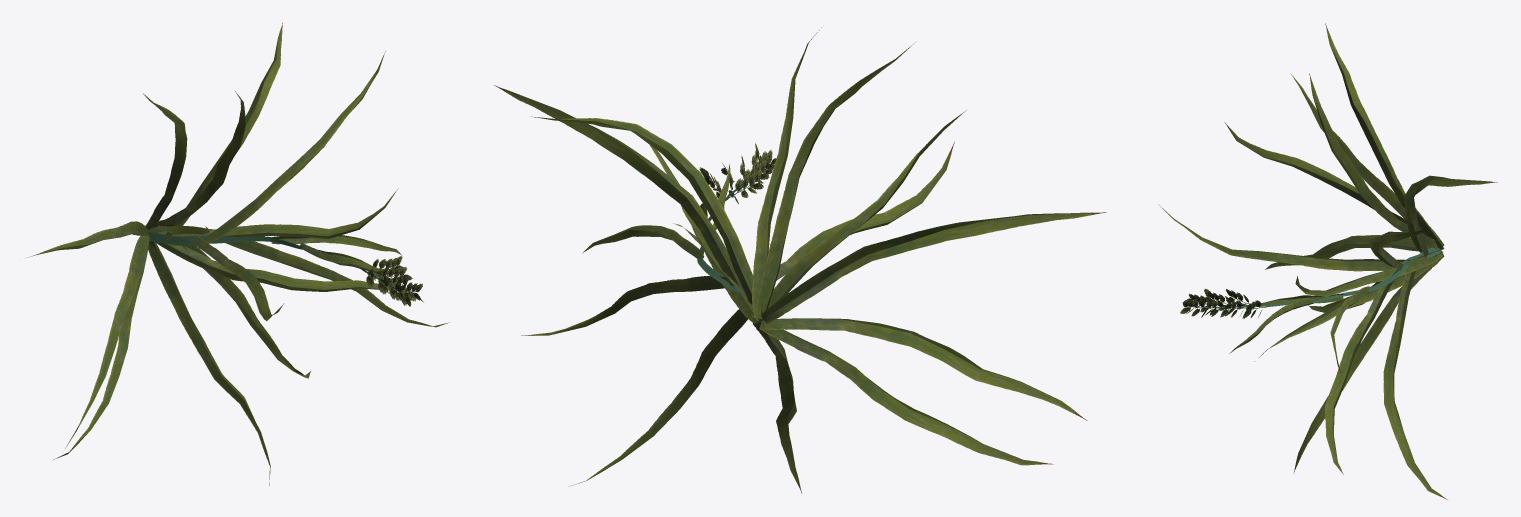
3 renders of one model, left to right at view 1: azimuth 30°, elevation 25°; view 2: azimuth 150°, elevation 25°; view 3: azimuth 270°, elevation 25°, orthographic. The views are drawn at different scales.
Parts seen in each view (by area): view 1: GC14_2; view 2: GC14_2; view 3: GC14_2.
Part boxes in pixels (left/top/right/bottom): GC14_2: left=28, top=22, right=449, bottom=485; GC14_2: left=494, top=27, right=1106, bottom=493; GC14_2: left=1158, top=23, right=1497, bottom=499.
Size of the model in its own units: 0.8516 by 0.736 by 0.5753.
Materials: 3 (3 with a texture image).
